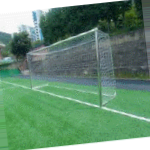goals: (24, 25, 119, 109)
